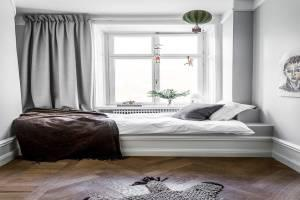window: (94, 24, 214, 107)
